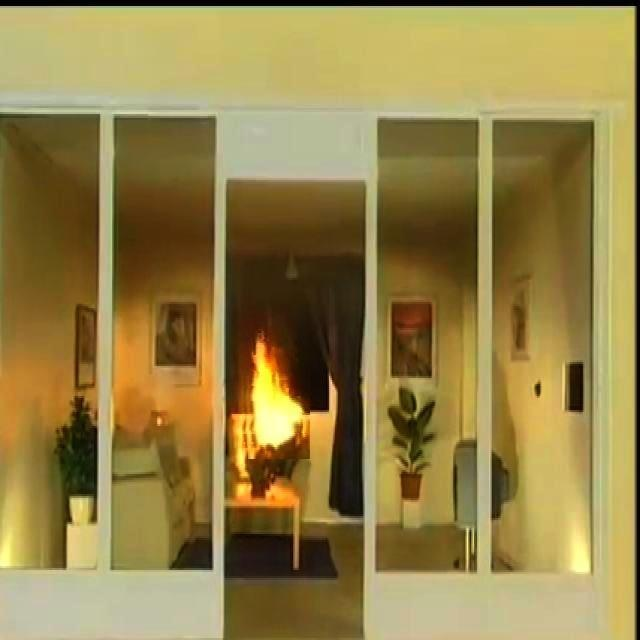fire: (233, 329, 313, 452)
